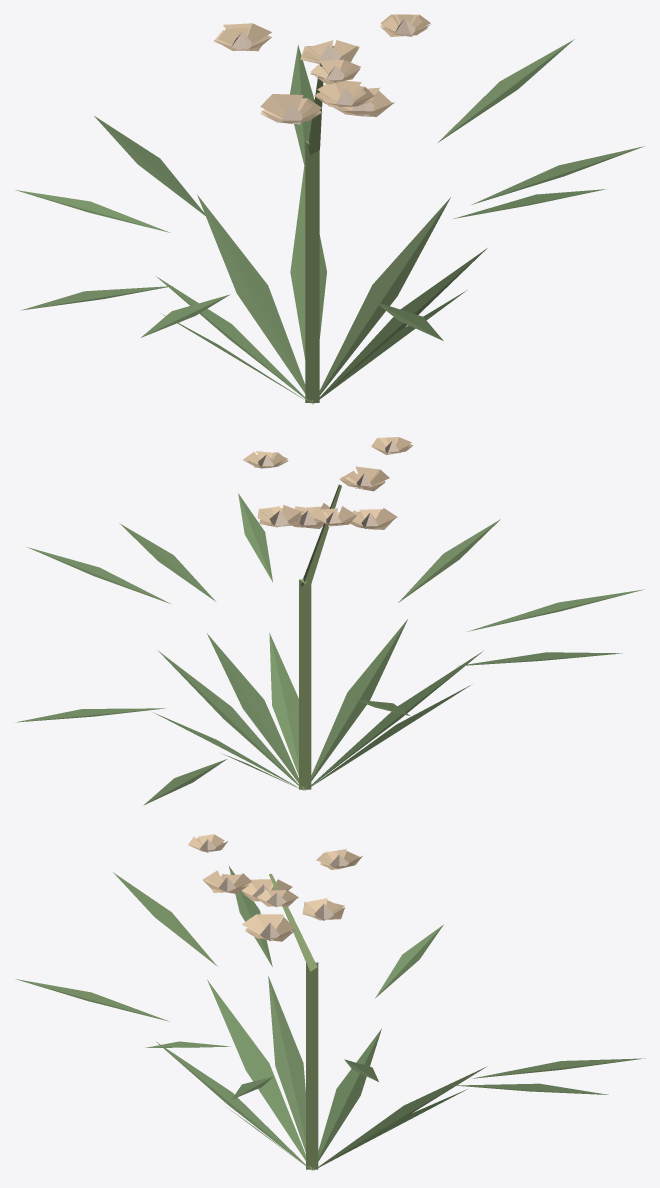
The model's file is hua.lan@flowering__summer.glb.
The picture shows the model from 3 angles, top to bottom: view 1: azimuth 30°, elevation 25°; view 2: azimuth 150°, elevation 25°; view 3: azimuth 270°, elevation 25°; orthographic projection. The views are drawn at different scales.
Visible parts, largest first — view 1: hua.lan@flowering__summer; view 2: hua.lan@flowering__summer; view 3: hua.lan@flowering__summer.
Boxes of the visible parts, x1,y1,x2,y2 form: hua.lan@flowering__summer: [15, 14, 644, 404]; hua.lan@flowering__summer: [16, 437, 644, 805]; hua.lan@flowering__summer: [15, 834, 645, 1170].
Bounding box in the file's own units: 1.35 × 0.7869 × 1.43.
